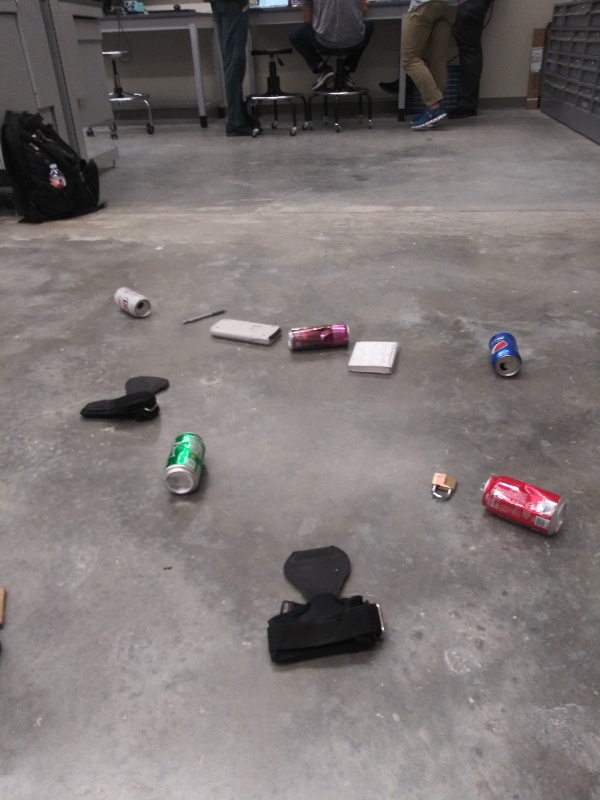can: (474, 472, 571, 539), (161, 428, 211, 500), (284, 318, 355, 356), (482, 330, 528, 383), (106, 282, 155, 321)
